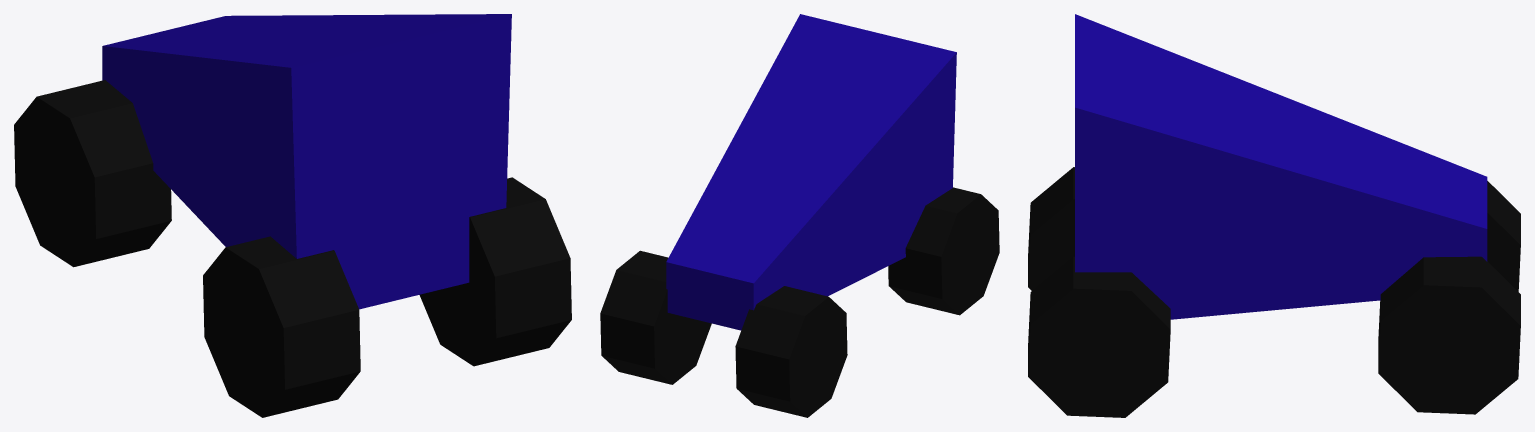
Rendered from car.glb.
3 views of the same model, side by side, from view 1: azimuth 30°, elevation 25°; view 2: azimuth 150°, elevation 25°; view 3: azimuth 270°, elevation 25° (orthographic). The views are drawn at different scales.
Parts seen in each view (by area): view 1: car, wheel3, wheel1, wheel4; view 2: car, wheel1, wheel3, wheel2; view 3: car, wheel2, wheel4, wheel3, wheel1.
Boxes of the visible parts, box(x1,y1,x2,y2) form: car: box(102, 14, 511, 309); wheel3: box(203, 236, 360, 417); wheel1: box(14, 80, 171, 267); wheel4: box(419, 177, 571, 366); car: box(666, 14, 956, 330); wheel1: box(735, 286, 847, 417); wheel3: box(888, 187, 999, 315); wheel2: box(600, 250, 711, 384); car: box(1075, 14, 1487, 319); wheel2: box(1378, 256, 1520, 414); wheel4: box(1028, 256, 1170, 417); wheel3: box(1028, 167, 1074, 290); wheel1: box(1487, 181, 1520, 291).
Size of the model in its own units: 1.4 by 1.59 by 2.39.
